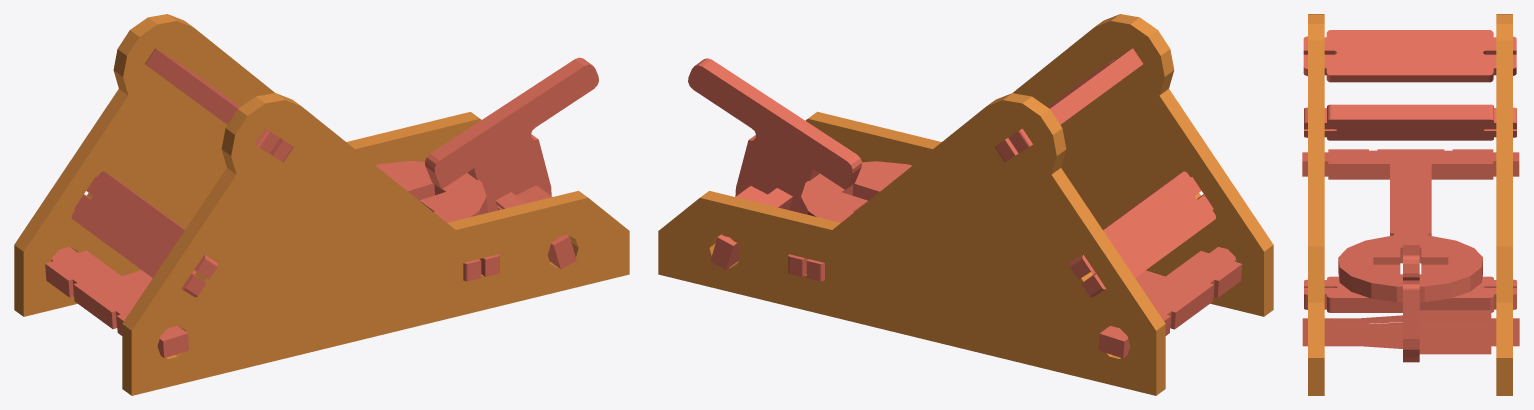
Rendered from Katapult.glb.
3 renders of one model, left to right at view 1: azimuth 30°, elevation 25°; view 2: azimuth 150°, elevation 25°; view 3: azimuth 270°, elevation 25°, orthographic. The views are drawn at different scales.
Parts seen in each view (by area): view 1: seitenwand, seitenwand.001, hebel, arm, abstand.001, abstand.002, drehachse, abstand; view 2: seitenwand.001, seitenwand, hebel, arm, abstand.001, abstand.002, drehachse, abstand; view 3: arm, abstand.002, abstand.001, seitenwand, seitenwand.001, abstand, drehachse, versteifung, hebel.
Boxes of the visible parts, box(x1,y1,x2,y2) form: seitenwand: box(122, 93, 629, 395); seitenwand.001: box(14, 14, 481, 316); hebel: box(425, 57, 598, 212); arm: box(45, 161, 487, 358); abstand.001: box(71, 171, 217, 297); abstand.002: box(145, 48, 293, 162); drehachse: box(495, 192, 576, 269); abstand: box(463, 254, 499, 281); seitenwand.001: box(658, 93, 1165, 395); seitenwand: box(805, 14, 1273, 316); hebel: box(688, 58, 861, 212); arm: box(800, 161, 1242, 358); abstand.001: box(1069, 171, 1215, 297); abstand.002: box(994, 48, 1143, 161); drehachse: box(710, 188, 792, 269); abstand: box(788, 254, 824, 281); arm: box(1302, 149, 1519, 302); abstand.002: box(1303, 30, 1516, 82); abstand.001: box(1304, 104, 1516, 140); seitenwand: box(1308, 14, 1324, 395); seitenwand.001: box(1496, 14, 1512, 395); abstand: box(1304, 276, 1516, 312); drehachse: box(1302, 310, 1519, 354); versteifung: box(1329, 325, 1493, 345); hebel: box(1403, 245, 1419, 362).
Bounding box in the file's own units: 126 × 59.86 × 52.11.
